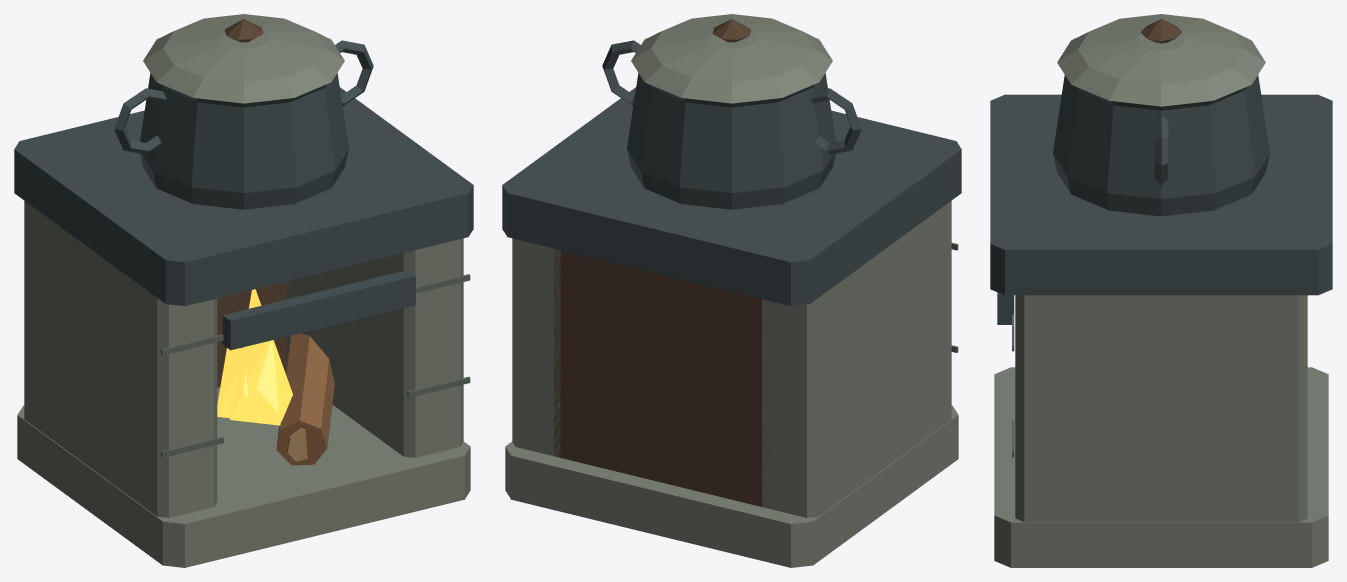
The model's file is kitchen_stove.glb.
3 views of the same model, side by side, from view 1: azimuth 30°, elevation 25°; view 2: azimuth 150°, elevation 25°; view 3: azimuth 270°, elevation 25° (orthographic). The views are drawn at different scales.
Parts seen in each view (by area): view 1: geometry, fire; view 2: geometry; view 3: geometry.
Part boxes in pixels (box(x1,y1,x2,y2)): geometry: box(14, 14, 473, 567); fire: box(217, 289, 292, 425); geometry: box(502, 14, 961, 567); geometry: box(990, 14, 1332, 567).
Bounding box in the file's own units: 0.88 × 1.25 × 0.82.
